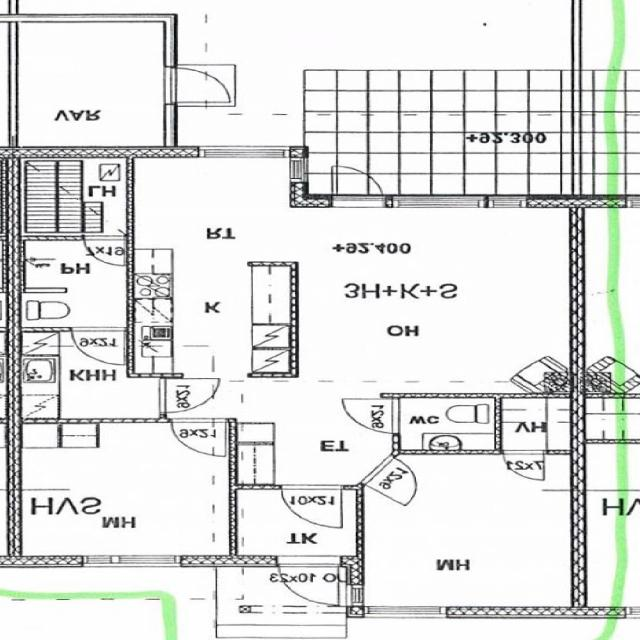door: (360, 456, 438, 504), (278, 556, 339, 606), (282, 484, 342, 528), (333, 162, 384, 208), (165, 68, 232, 102), (172, 419, 227, 458), (160, 379, 220, 414), (339, 399, 400, 433), (72, 326, 125, 364), (82, 236, 126, 267), (504, 450, 544, 480)
